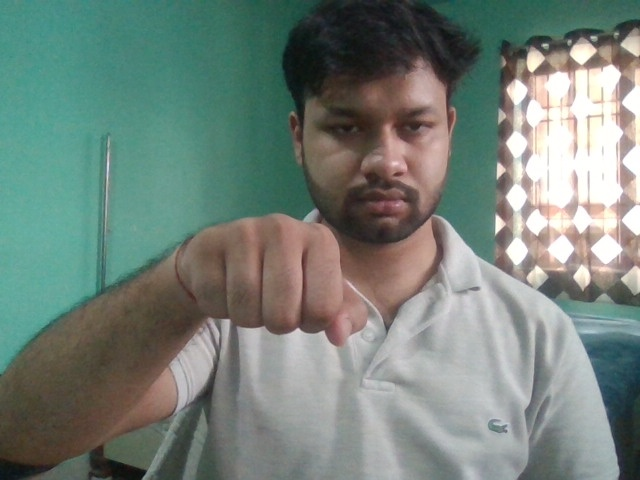Yes: (169, 209, 371, 350)
